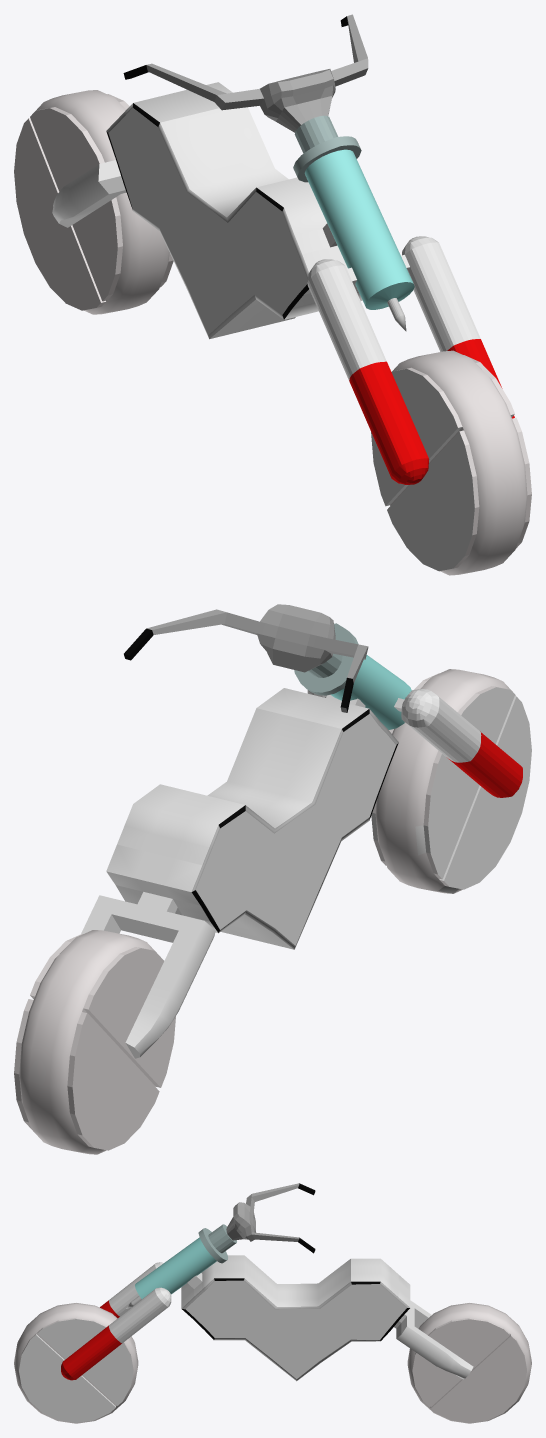
Rendered from SimpleBike.fbx.
3 renders of one model, top to bottom at view 1: azimuth 30°, elevation 25°; view 2: azimuth 150°, elevation 25°; view 3: azimuth 270°, elevation 25°, orthographic. The views are drawn at different scales.
Visible parts, largest first — view 1: polySurface11; view 2: polySurface11; view 3: polySurface11.
Boxes of the visible parts, x1,y1,x2,y2 form: polySurface11: [14, 14, 531, 575]; polySurface11: [14, 604, 531, 1154]; polySurface11: [14, 1183, 531, 1423].
Size of the model in its own units: 6.18 by 10.1 by 22.5.
